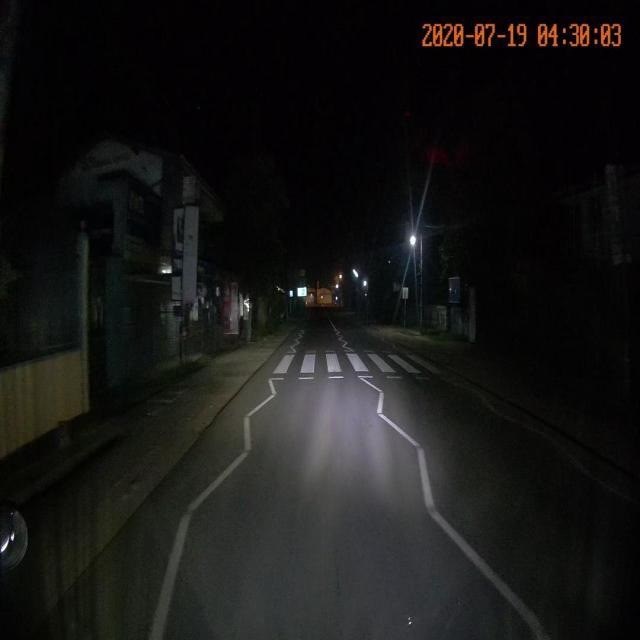Liniya 1: (427, 510, 553, 640), (148, 513, 192, 639), (186, 451, 250, 511), (377, 414, 421, 447), (416, 448, 436, 509), (245, 395, 276, 416), (359, 377, 384, 393), (243, 416, 252, 451), (377, 392, 384, 413), (268, 380, 277, 394)
Perehod: (271, 353, 446, 374)
